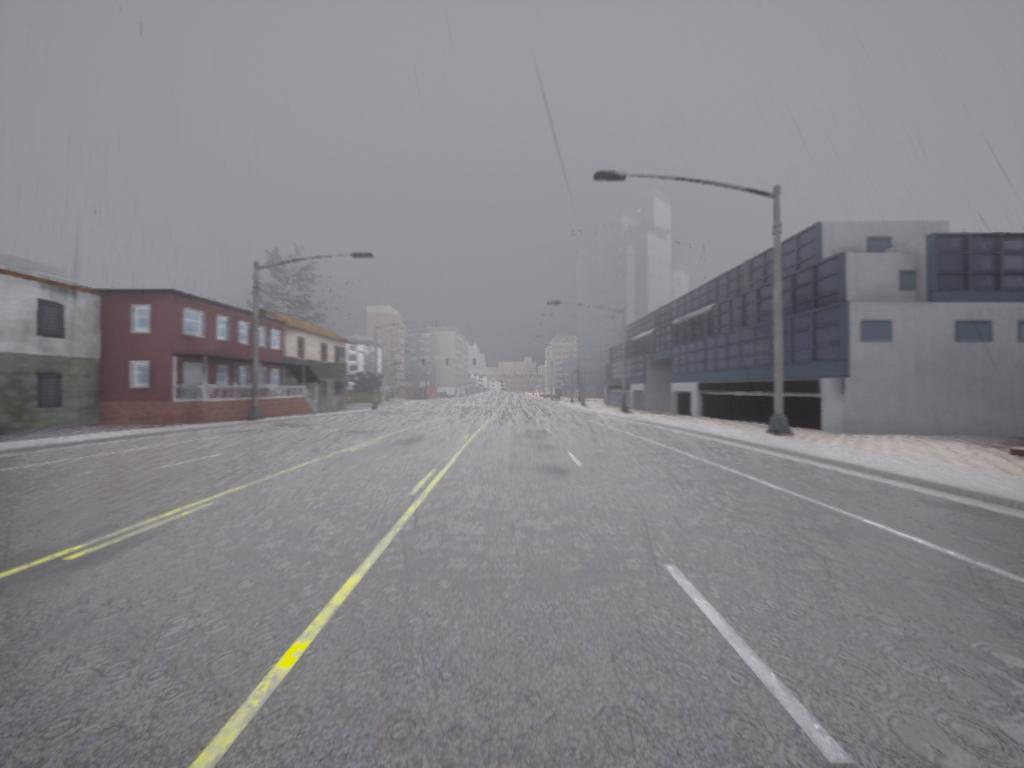traffic_light: (422, 359, 426, 367), (446, 359, 450, 367), (474, 359, 477, 367)
